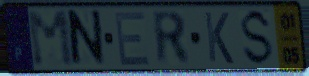E: (113, 9, 153, 68)
K: (202, 10, 236, 66)
M: (24, 9, 77, 69)
N: (68, 7, 107, 71)
R: (149, 10, 193, 68)
S: (240, 7, 275, 69)
